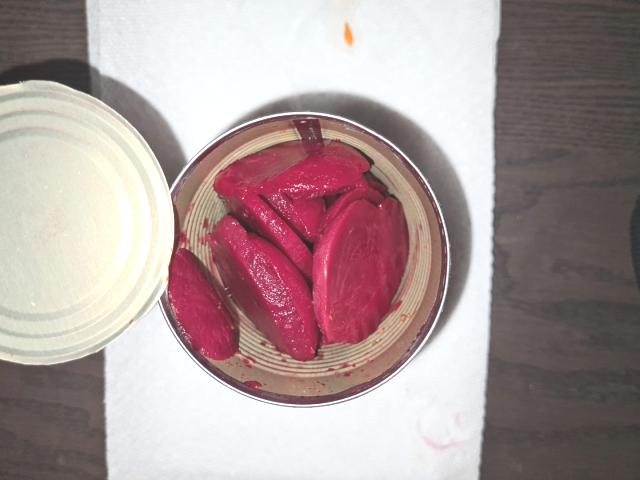kichen waste: (169, 140, 407, 360)
